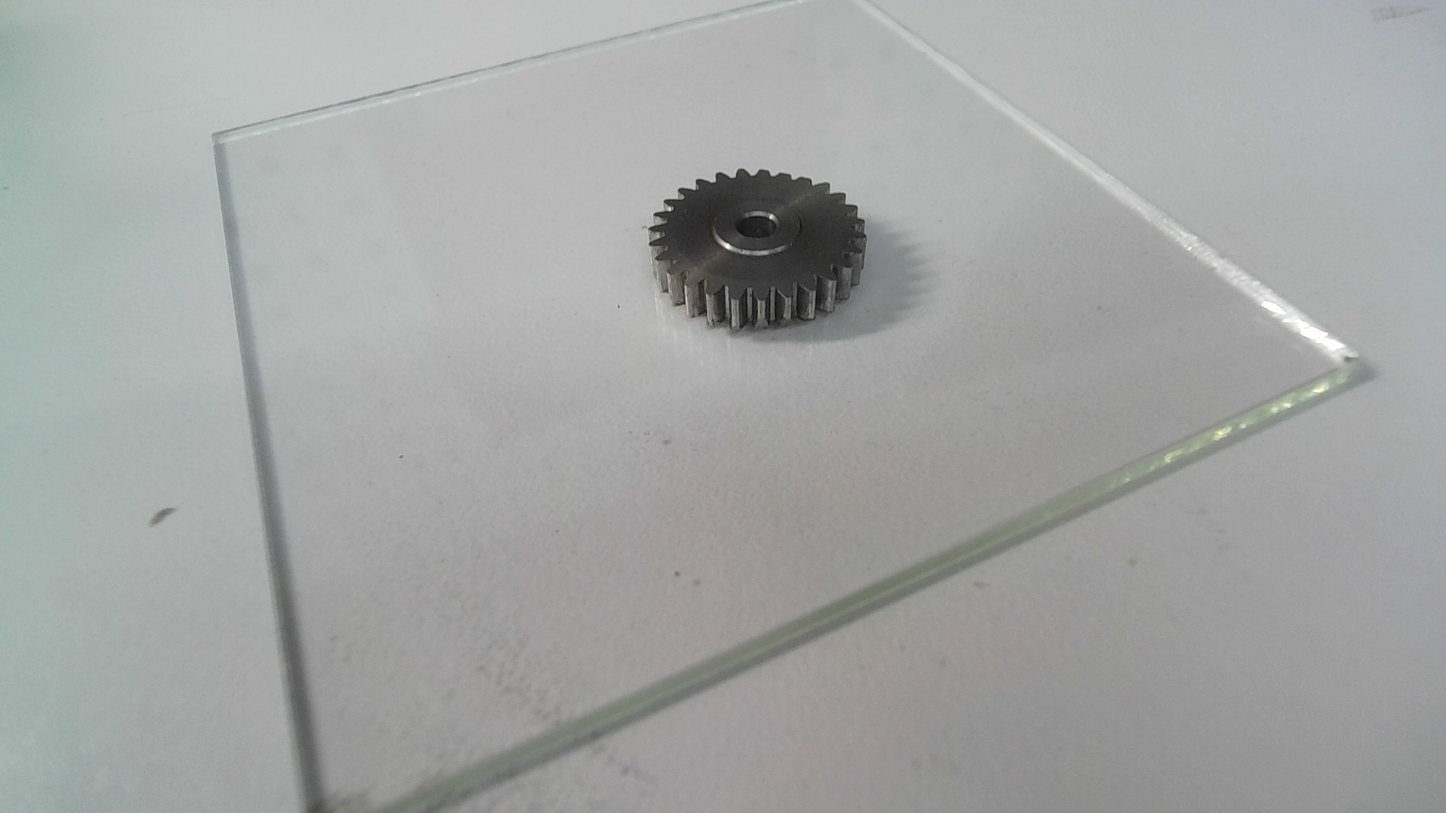gear: (648, 164, 868, 336)
